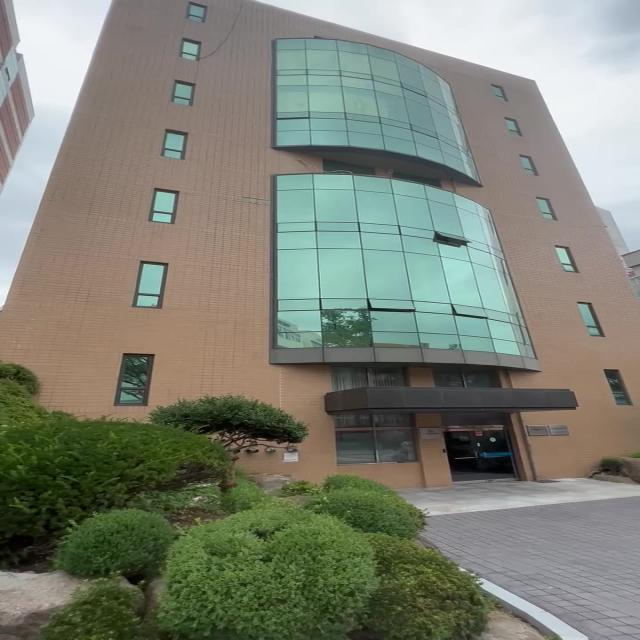building: (71, 25, 621, 410)
